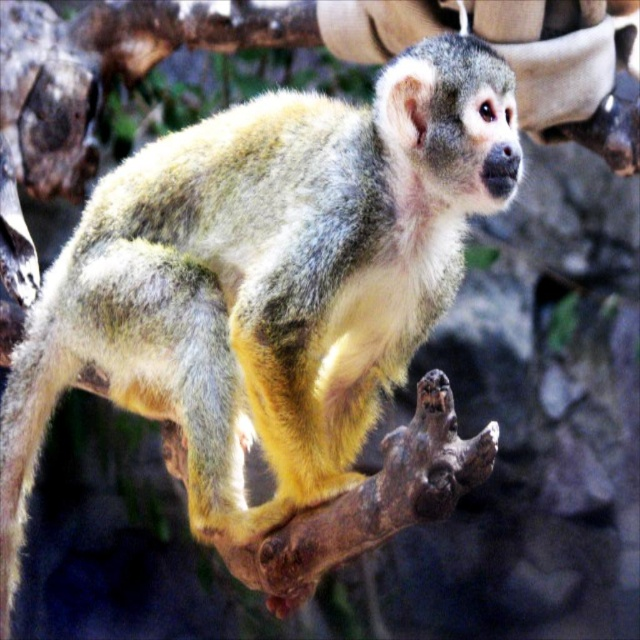Monkey: (0, 31, 534, 639)
